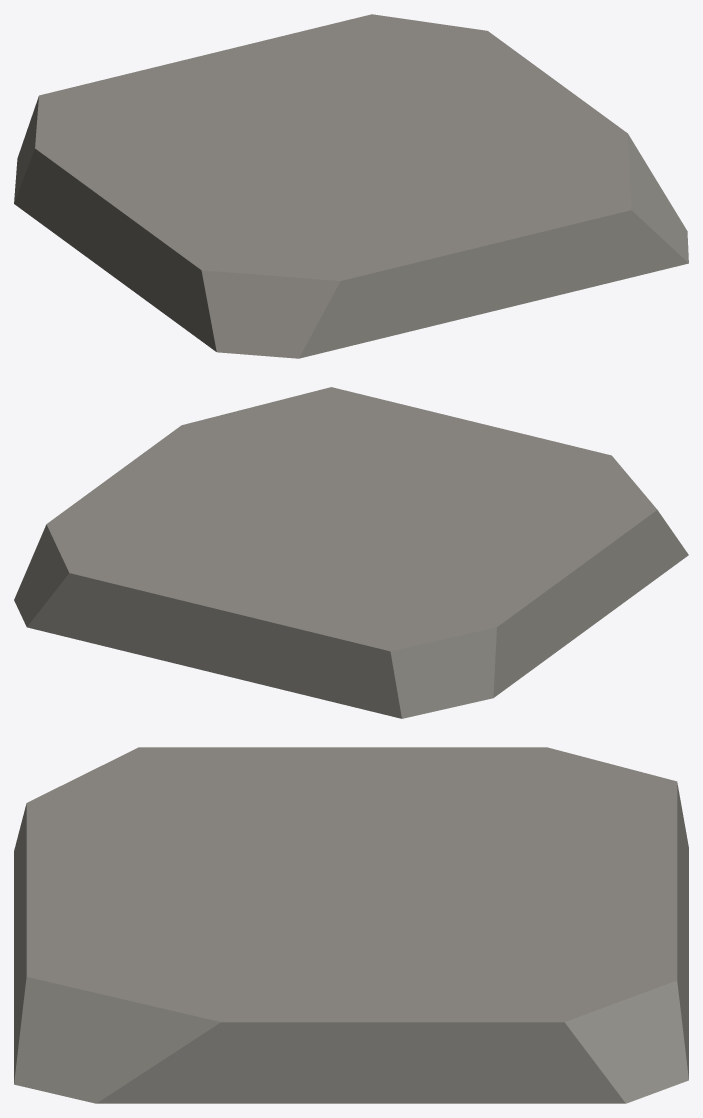
The model's file is Rock_Tile_m_09.fbx.
3 renders of one model, top to bottom at view 1: azimuth 30°, elevation 25°; view 2: azimuth 150°, elevation 25°; view 3: azimuth 270°, elevation 25°, orthographic. The views are drawn at different scales.
Parts seen in each view (by area): view 1: Rock_Tile_m_09; view 2: Rock_Tile_m_09; view 3: Rock_Tile_m_09.
Boxes of the visible parts, x1=… form: Rock_Tile_m_09: x1=14, y1=14, x2=688, y2=358; Rock_Tile_m_09: x1=14, y1=387, x2=688, y2=718; Rock_Tile_m_09: x1=14, y1=747, x2=688, y2=1103.
Size of the model in its own units: 40 by 5 by 40.
